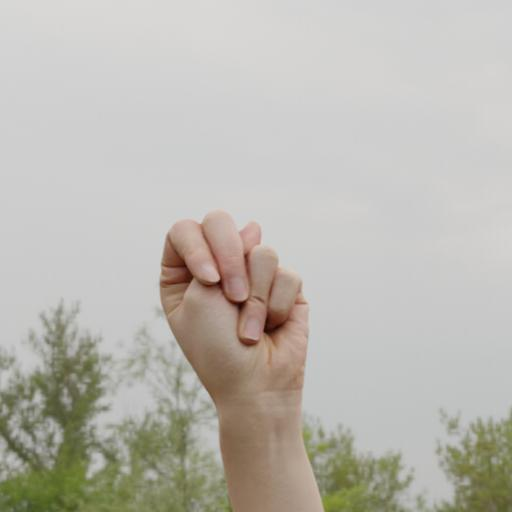N: (153, 204, 326, 398)
